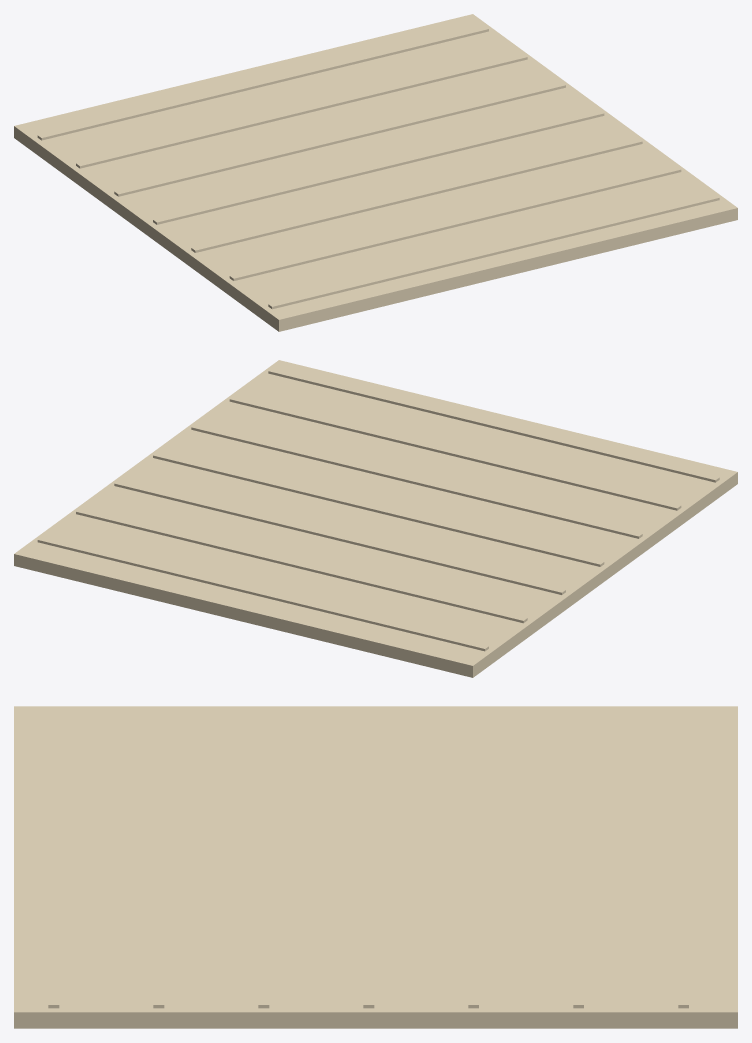
The model's file is arena-sand-footing-tile.glb.
3 views of the same model, one above another, from view 1: azimuth 30°, elevation 25°; view 2: azimuth 150°, elevation 25°; view 3: azimuth 270°, elevation 25° (orthographic). The views are drawn at different scales.
Visible parts, largest first — view 1: arena-footing-tile; view 2: arena-footing-tile; view 3: arena-footing-tile.
Part boxes in pixels (left/top/right/bottom): arena-footing-tile: left=14, top=14, right=737, bottom=331; arena-footing-tile: left=14, top=360, right=737, bottom=677; arena-footing-tile: left=14, top=706, right=737, bottom=1028.
Bounding box in the file's own units: 4 × 0.1201 × 4.
